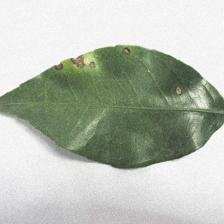canker: (46, 48, 134, 71)
